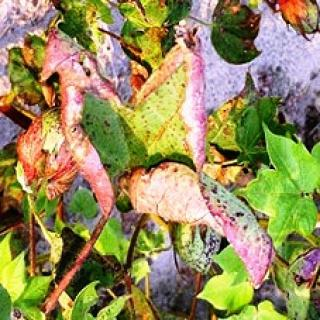wilt: (41, 22, 217, 162), (120, 165, 273, 289), (18, 110, 86, 198)
